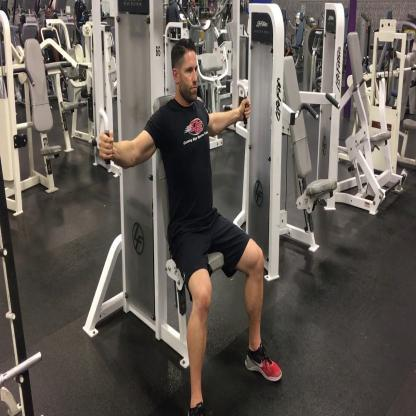chest fly machine: (88, 0, 285, 416)
